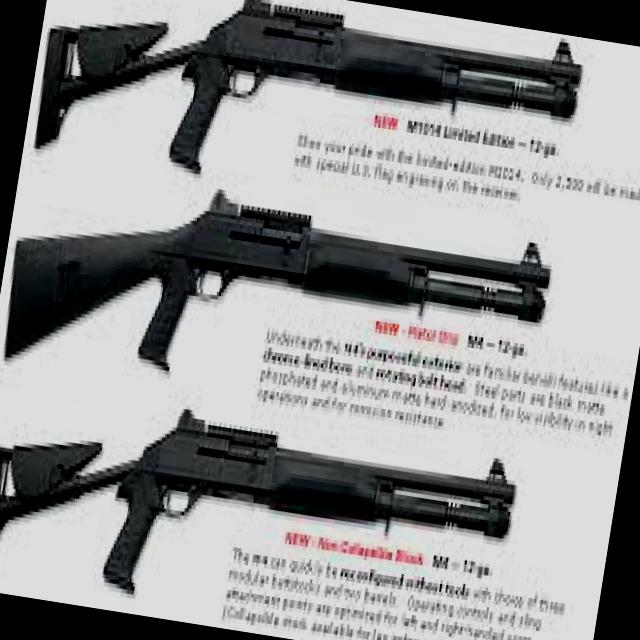long weapon: (0, 212, 558, 410), (28, 0, 574, 181), (0, 443, 527, 594)
